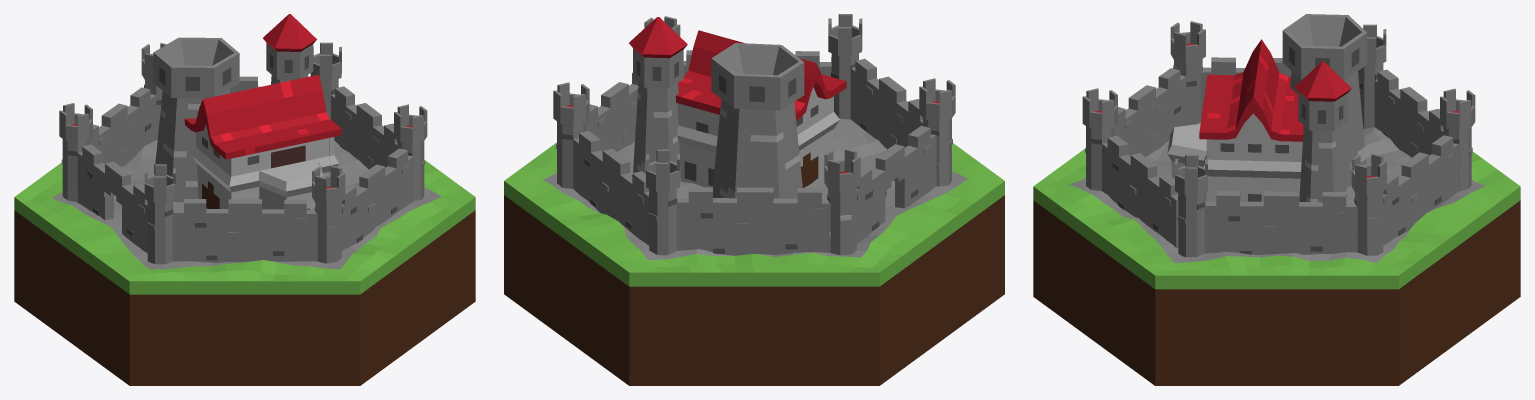
File: Burg_V2.fbx
3 renders of one model, left to right at view 1: azimuth 30°, elevation 25°; view 2: azimuth 150°, elevation 25°; view 3: azimuth 270°, elevation 25°, orthographic. The views are drawn at different scales.
Parts seen in each view (by area): view 1: Cylinder, Mauer.001, Cube.004, Cylinder.002, Cube.002, Mauer.002, Mauer, Mauer.005, Mauer.003, Cylinder.001, Turm.001, Turm.002 (+5 smaller); view 2: Cylinder, Cylinder.002, Mauer.005, Cylinder.001, Mauer.004, Mauer, Mauer.001, Cube.004, Turm, Turm.005, Cube.003, Mauer.003 (+5 smaller); view 3: Cylinder, Mauer.003, Cube.004, Cylinder.002, Cube, Cylinder.001, Mauer.002, Mauer.004, Mauer.001, Mauer.005, Turm.004, Turm.003 (+6 smaller).
Part boxes in pixels (x1=…): Cylinder: x1=14, y1=140, x2=475, y2=385; Mauer.001: x1=172, y1=199, x2=317, y2=262; Cube.004: x1=184, y1=74, x2=341, y2=159; Cylinder.002: x1=153, y1=37, x2=239, y2=202; Cube.002: x1=236, y1=138, x2=330, y2=209; Mauer.002: x1=342, y1=148, x2=413, y2=251; Mauer: x1=77, y1=144, x2=147, y2=253; Mauer.005: x1=89, y1=87, x2=156, y2=166; Mauer.003: x1=331, y1=86, x2=397, y2=169; Cylinder.001: x1=263, y1=14, x2=316, y2=84; Turm.001: x1=144, y1=164, x2=175, y2=264; Turm.002: x1=312, y1=165, x2=345, y2=263; Cylinder: x1=504, y1=118, x2=1004, y2=385; Cylinder.002: x1=711, y1=43, x2=804, y2=198; Mauer.005: x1=676, y1=187, x2=830, y2=255; Cylinder.001: x1=629, y1=17, x2=687, y2=181; Mauer.004: x1=573, y1=131, x2=649, y2=245; Mauer: x1=857, y1=125, x2=936, y2=243; Mauer.001: x1=850, y1=58, x2=922, y2=149; Cube.004: x1=675, y1=30, x2=846, y2=120; Turm: x1=824, y1=148, x2=860, y2=255; Turm.005: x1=646, y1=149, x2=679, y2=255; Cube.003: x1=676, y1=103, x2=719, y2=187; Mauer.003: x1=586, y1=72, x2=638, y2=151; Cylinder: x1=1033, y1=122, x2=1520, y2=385; Mauer.003: x1=1204, y1=191, x2=1357, y2=254; Cube.004: x1=1199, y1=39, x2=1303, y2=141; Cylinder.002: x1=1282, y1=14, x2=1367, y2=188; Cube: x1=1203, y1=113, x2=1302, y2=201; Cylinder.001: x1=1294, y1=61, x2=1351, y2=202; Mauer.002: x1=1102, y1=135, x2=1178, y2=248; Mauer.004: x1=1383, y1=135, x2=1458, y2=245; Mauer.001: x1=1114, y1=68, x2=1186, y2=156; Mauer.005: x1=1374, y1=69, x2=1443, y2=157; Turm.004: x1=1351, y1=153, x2=1386, y2=255; Turm.003: x1=1175, y1=154, x2=1207, y2=257.
Bounding box in the file's own units: 173 × 122 × 200.
